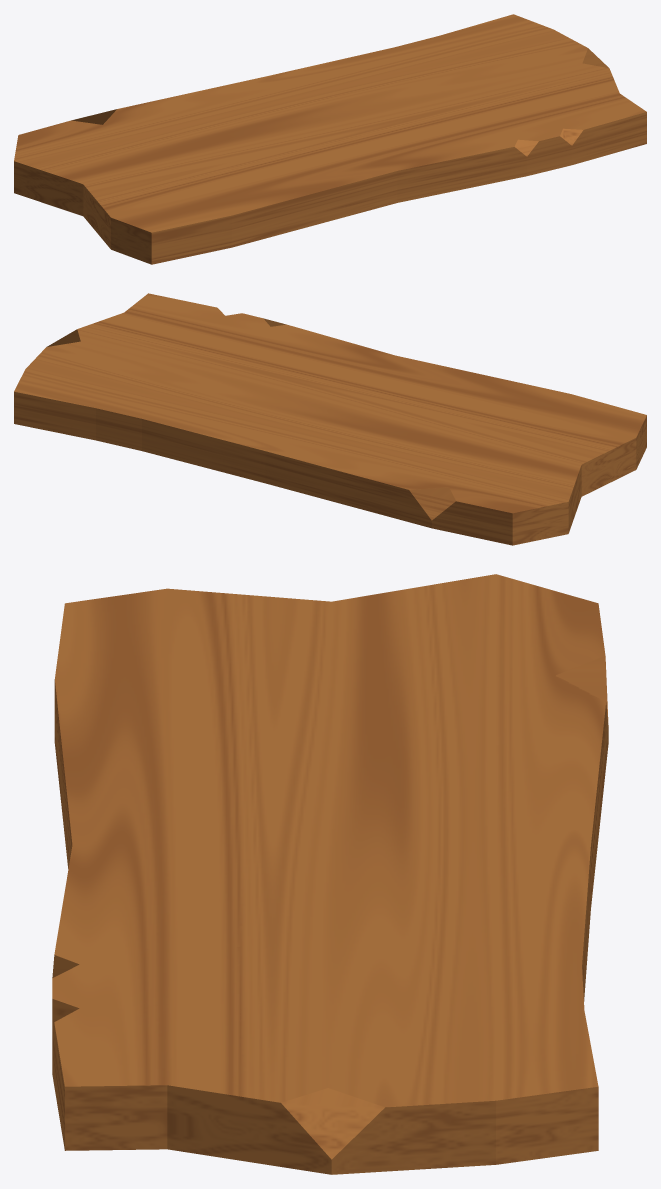
File: model_tabuagrandona1_01.fbx
3 views of the same model, one above another, from view 1: azimuth 30°, elevation 25°; view 2: azimuth 150°, elevation 25°; view 3: azimuth 270°, elevation 25° (orthographic). The views are drawn at different scales.
Parts seen in each view (by area): view 1: tabua grandona 1; view 2: tabua grandona 1; view 3: tabua grandona 1.
Part boxes in pixels (x1,y1,x2,y2): tabua grandona 1: (14,14,646,264); tabua grandona 1: (14,293,646,545); tabua grandona 1: (52,574,608,1174).
Size of the model in its own units: 9.08 by 0.506 by 3.98.
Materials: 1 (1 with a texture image).
